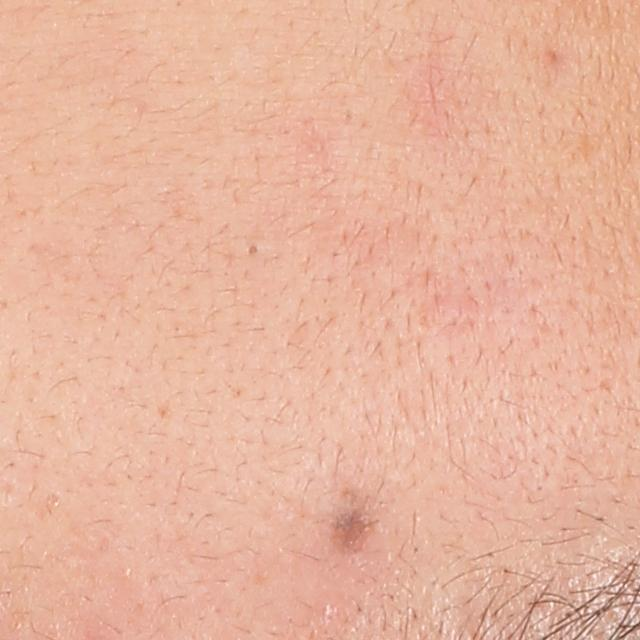comedo: (239, 238, 265, 260)
nevus: (315, 484, 418, 577)
